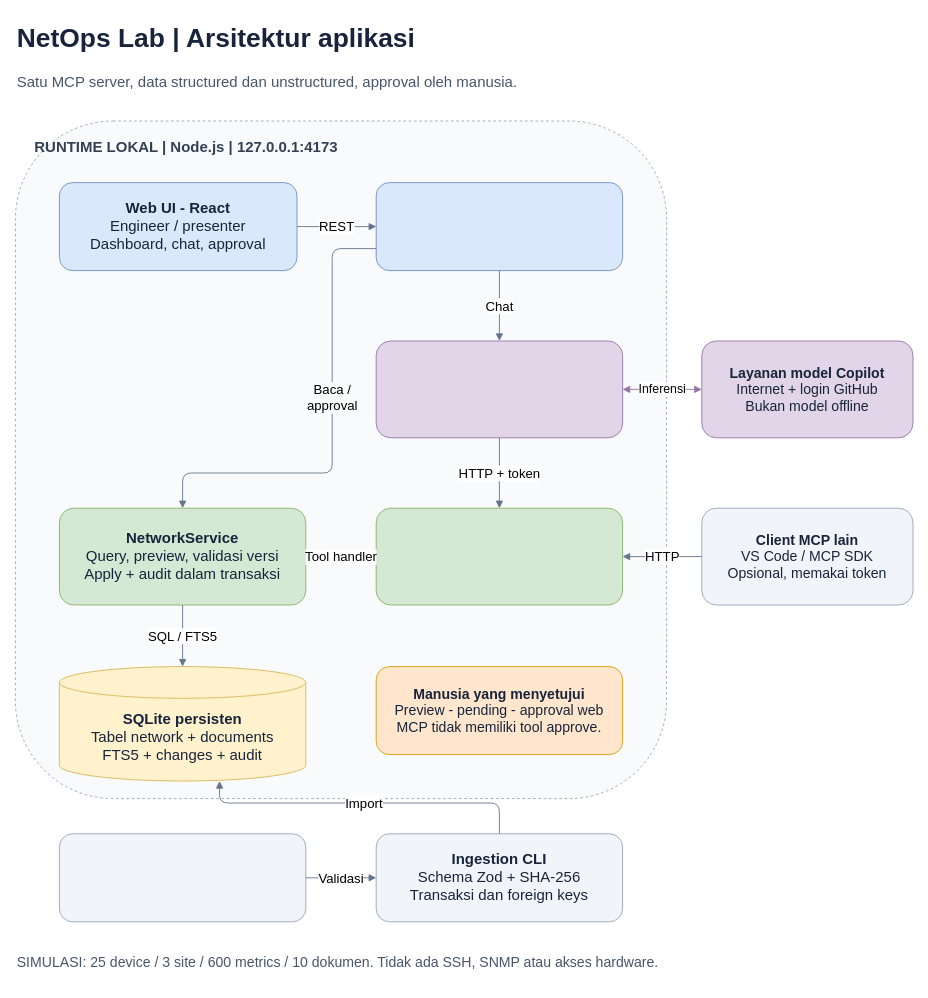
Some shapes in this 928 by 998 pixel diagram are drawn without their labels. Here are the shapes that lost their labels. From the top down, the centre of each, then its label:
At point (499, 226): "Express REST API Endpoint web dan keputusan Host / origin / input checks".
At point (499, 389): "Network Agent GitHub Copilot SDK MCP client + tool allowlist".
At point (499, 556): "Network MCP server 17 tools + 2 resources Stateless Streamable HTTP".
At point (182, 877): "Generator + file dummy network.json: structured .md / .txt / .log: unstructured".
